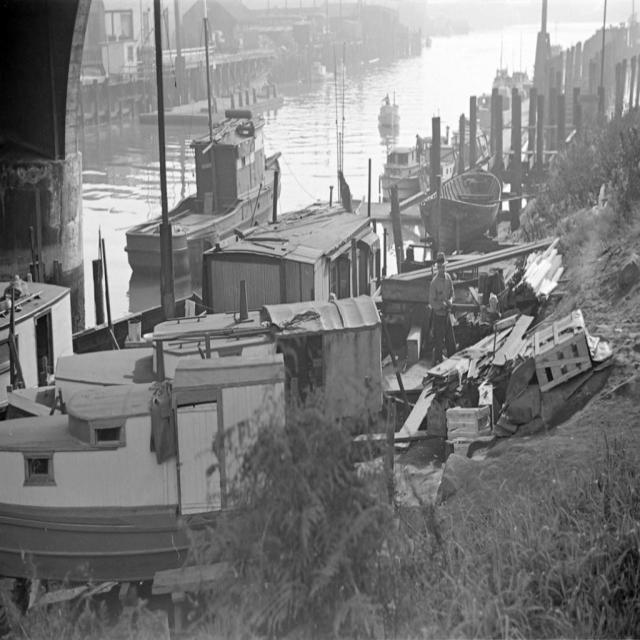Boat: (122, 0, 284, 276), (378, 64, 524, 204), (422, 168, 500, 255), (375, 100, 399, 129)
